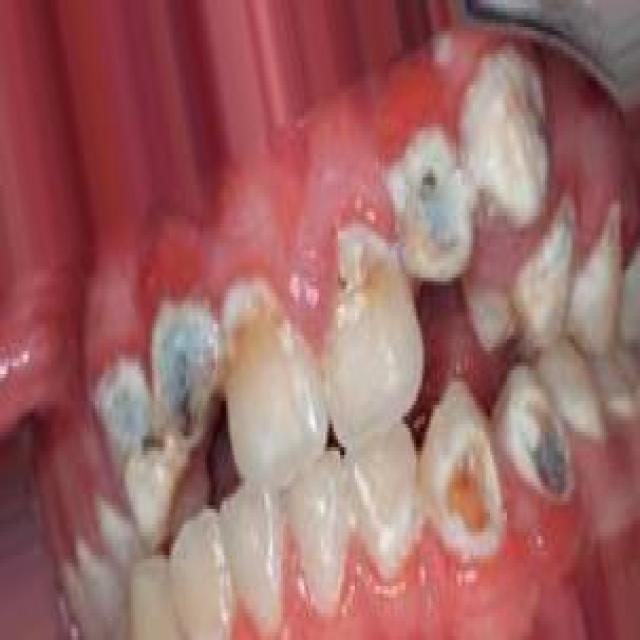caries: (458, 44, 550, 205), (144, 293, 217, 465), (380, 130, 469, 268), (89, 357, 162, 517), (504, 371, 579, 507), (438, 406, 504, 550), (323, 192, 395, 311), (220, 266, 286, 382), (528, 185, 572, 339)
